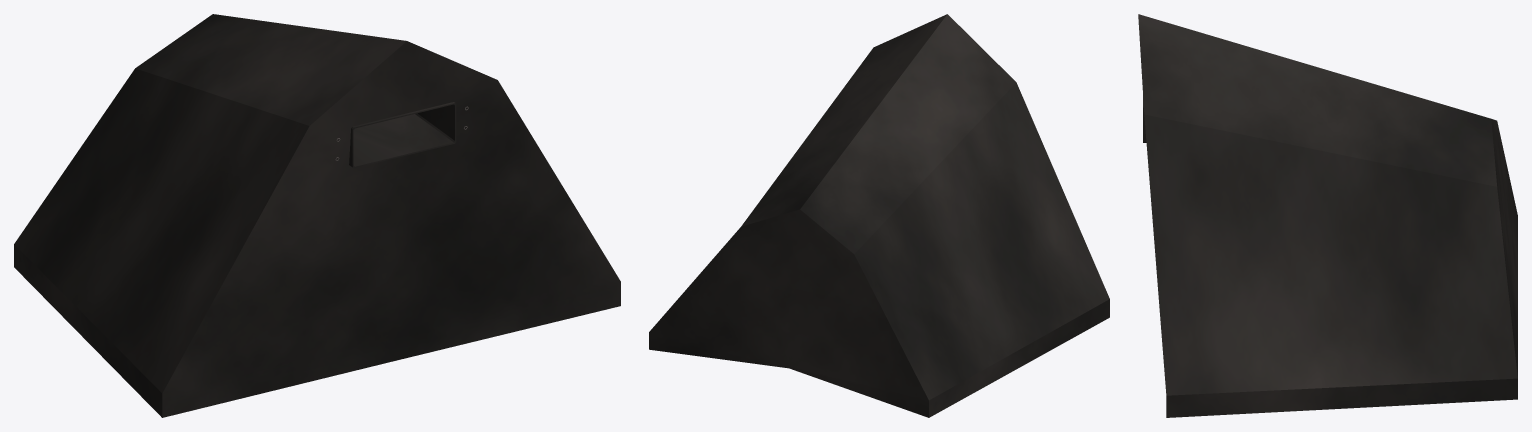
The model's file is e_b_hangar_d_model.fbx.
3 views of the same model, side by side, from view 1: azimuth 30°, elevation 25°; view 2: azimuth 150°, elevation 25°; view 3: azimuth 270°, elevation 25° (orthographic). The views are drawn at different scales.
Parts seen in each view (by area): view 1: polySurface23; view 2: polySurface23; view 3: polySurface23.
Boxes of the visible parts, x1,y1,x2,y2 form: polySurface23: [14, 14, 620, 417]; polySurface23: [649, 14, 1109, 417]; polySurface23: [1138, 14, 1517, 417].
Bounding box in the file's own units: 5223 × 3636 × 4118.
2 materials, 1 textured.
